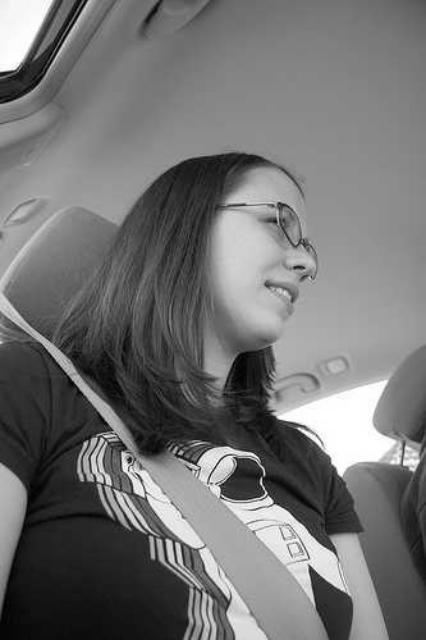Seatbelt: (0, 274, 336, 640)
